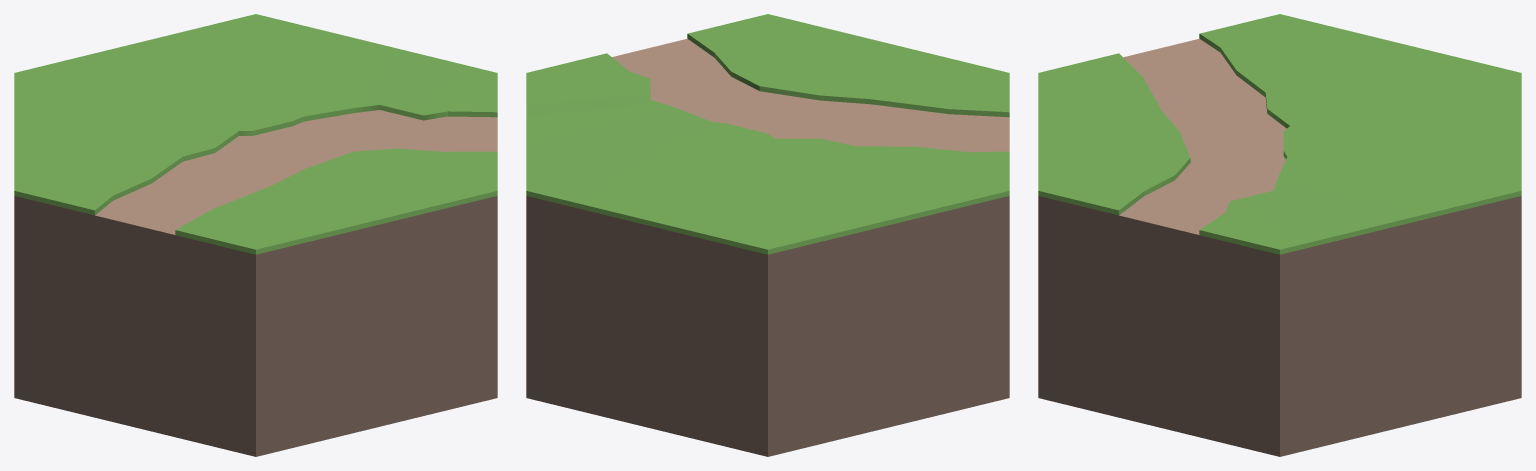
File: tile_road03.fbx
The picture shows the model from 3 angles, left to right: view 1: azimuth 30°, elevation 25°; view 2: azimuth 150°, elevation 25°; view 3: azimuth 270°, elevation 25°; orthographic projection.
Visible parts, largest first — view 1: Tile_Road8; view 2: Tile_Road8; view 3: Tile_Road8.
Boxes of the visible parts, left/top/right/bottom form: Tile_Road8: left=14, top=14, right=497, bottom=456; Tile_Road8: left=526, top=14, right=1009, bottom=456; Tile_Road8: left=1038, top=14, right=1521, bottom=456.
Size of the model in its own units: 2 by 0.8239 by 1.73.
